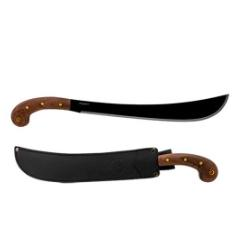MACHETTE: (0, 82, 232, 186)
